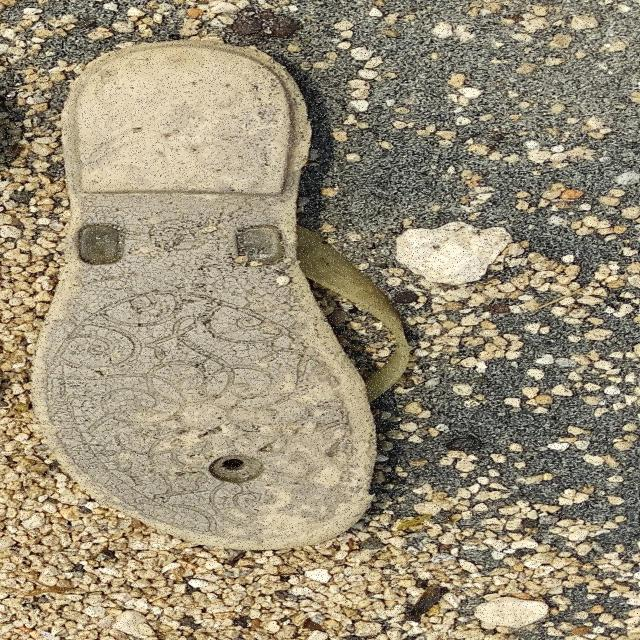rubber_waste: (33, 40, 411, 552)
